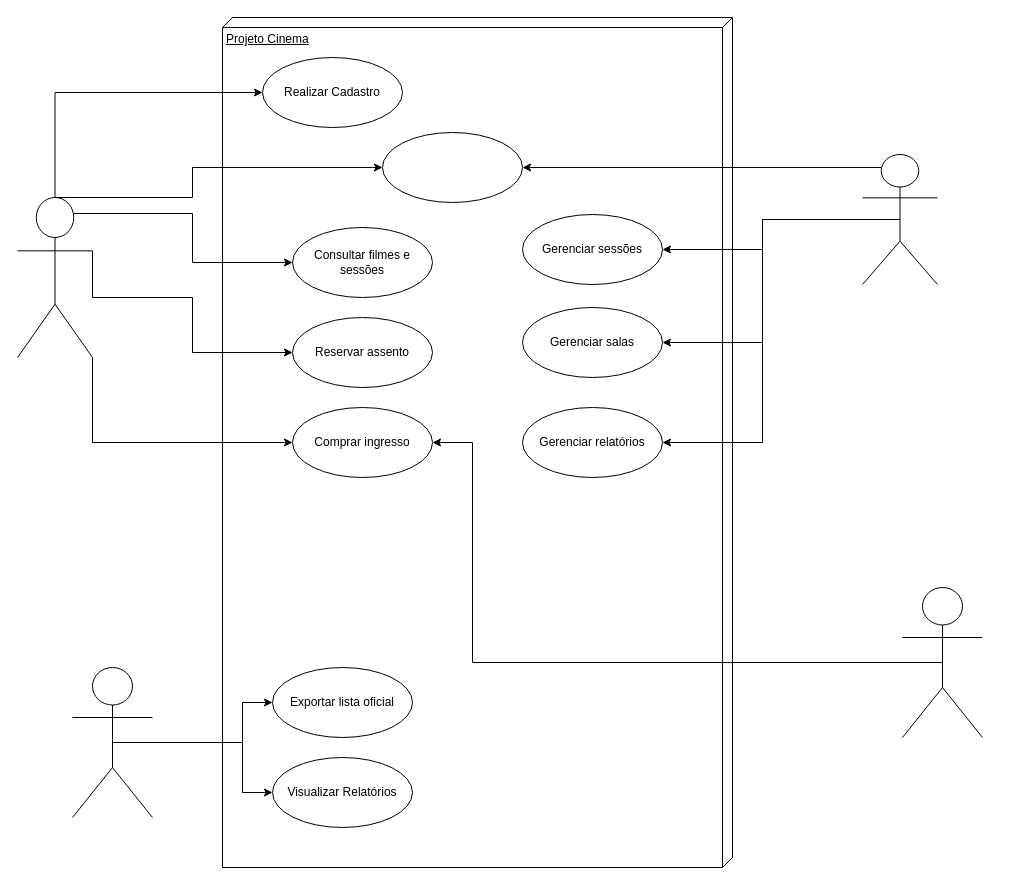
The diagram is 1013 pixels wide and 885 high, and some of its shapes have lost their labels. The centre of each missing label's shape, as x and y in pixels:
Administrador: [900,219]
Ancine: [112,742]
API de Pagamentos: [942,662]
Cliente: [54,277]
Realizar Login: [452,167]
